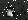person: (7, 8, 16, 18)
